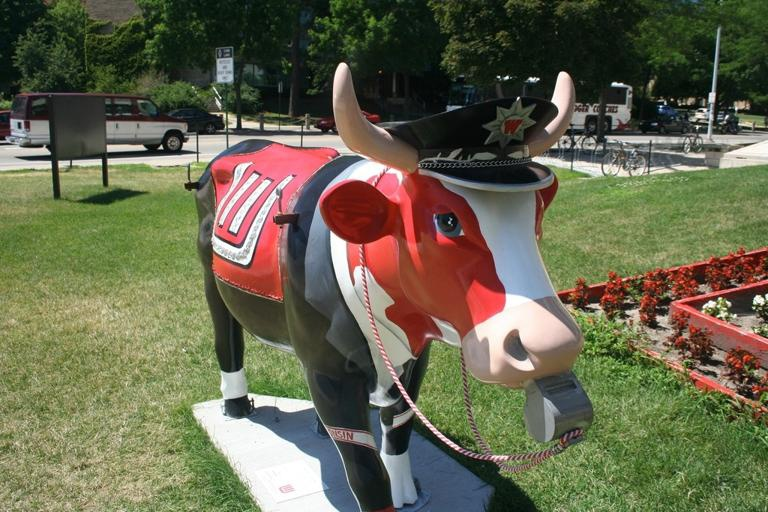non-vehicle: (599, 139, 647, 177), (557, 122, 597, 154), (680, 123, 703, 153)
